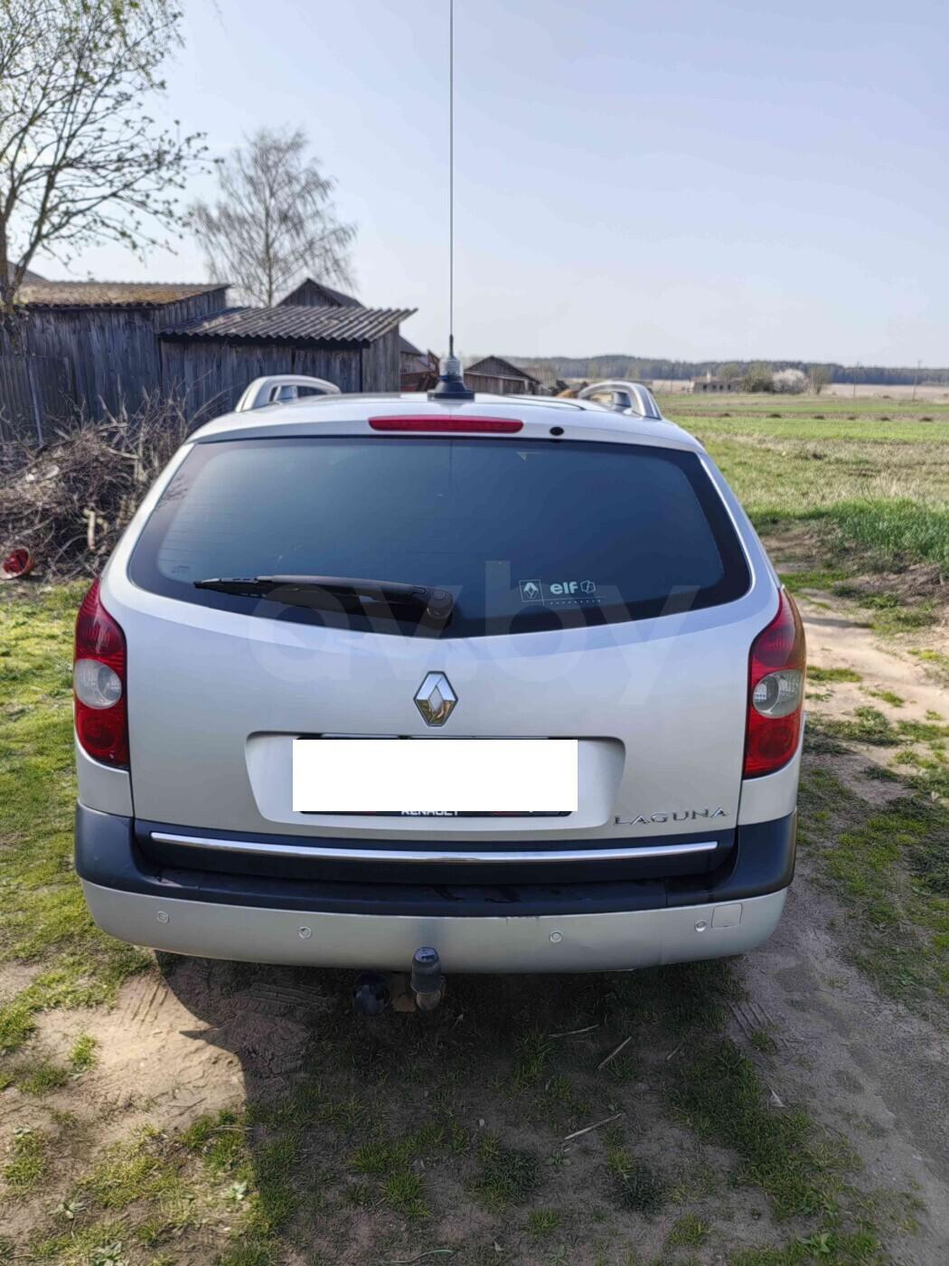Laguna_2005-2007: (61, 378, 812, 1006)
